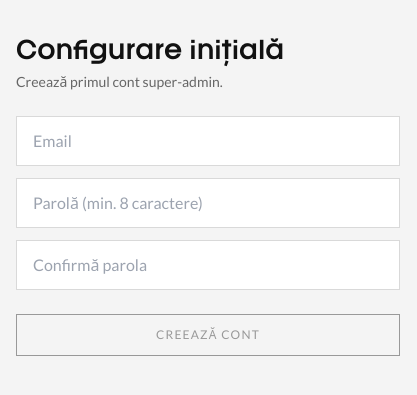
Scenario: Admin — initial setup › shows error when setup already complete
Type "alex@betel.ro" into the field with test id "setup-email" at (208, 141), box [16,116,400,166]
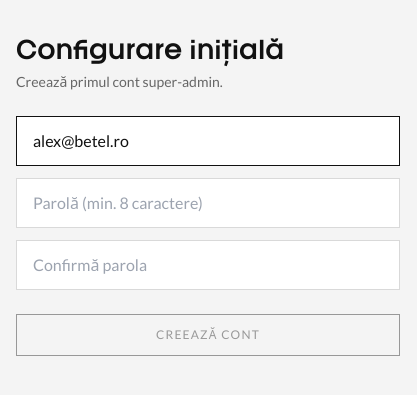
Type "secret123" into the password field with test id "setup-password" at (208, 203), box [16,178,400,228]
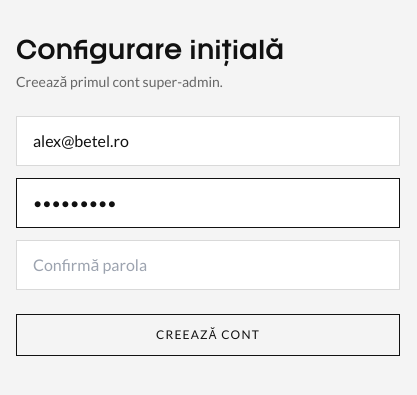
Type "secret123" into the password field with test id "setup-confirm" at (208, 265), box [16,240,400,290]
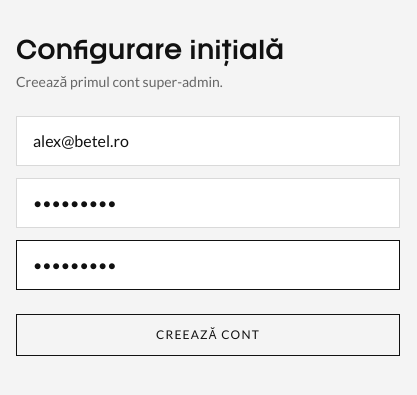
Click the button with test id "setup-submit" at (208, 335), box [16,314,400,356]
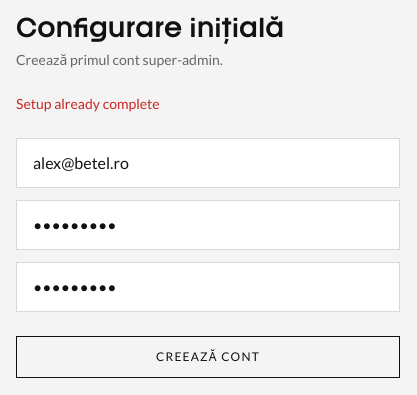
Now the text with test id "setup-error" reads "Setup already complete", box [16,95,160,112]
